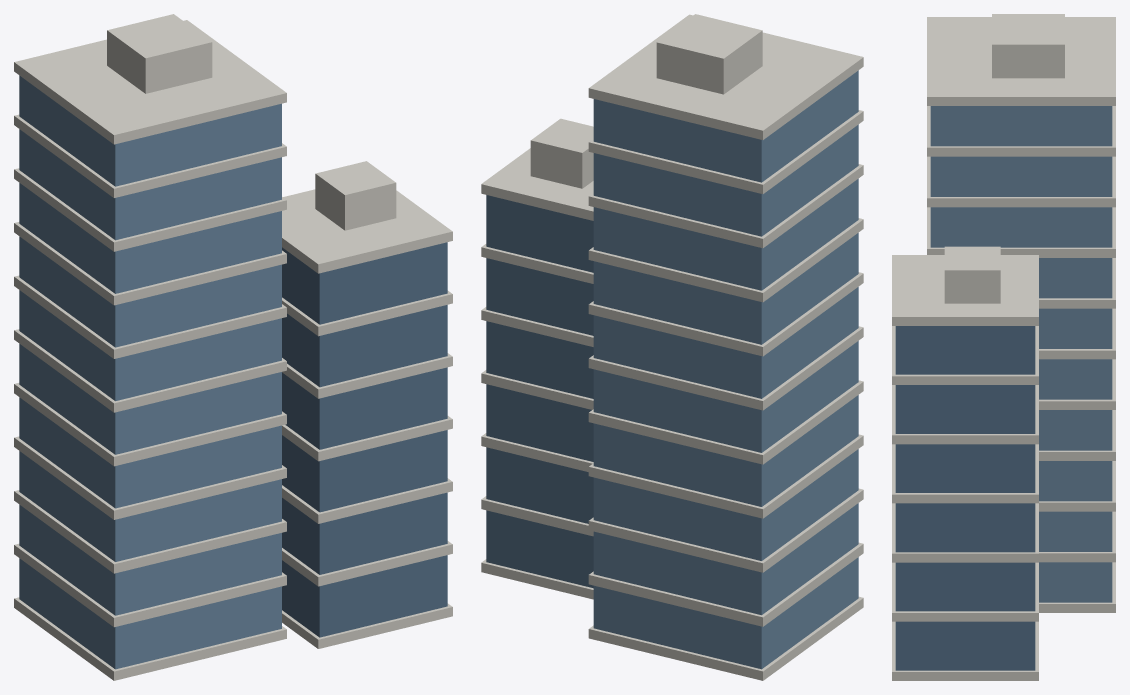
File: office_towers.glb
The picture shows the model from 3 angles, left to right: view 1: azimuth 30°, elevation 25°; view 2: azimuth 150°, elevation 25°; view 3: azimuth 270°, elevation 25°; orthographic projection. The views are drawn at different scales.
Visible parts, largest first — view 1: office_towers2; view 2: office_towers2; view 3: office_towers2.
Part boxes in pixels (x1=…): office_towers2: x1=14, y1=14, x2=452, y2=680; office_towers2: x1=481, y1=14, x2=863, y2=680; office_towers2: x1=892, y1=14, x2=1115, y2=680.
Bounding box in the file's own units: 4 × 6.94 × 2.56.
